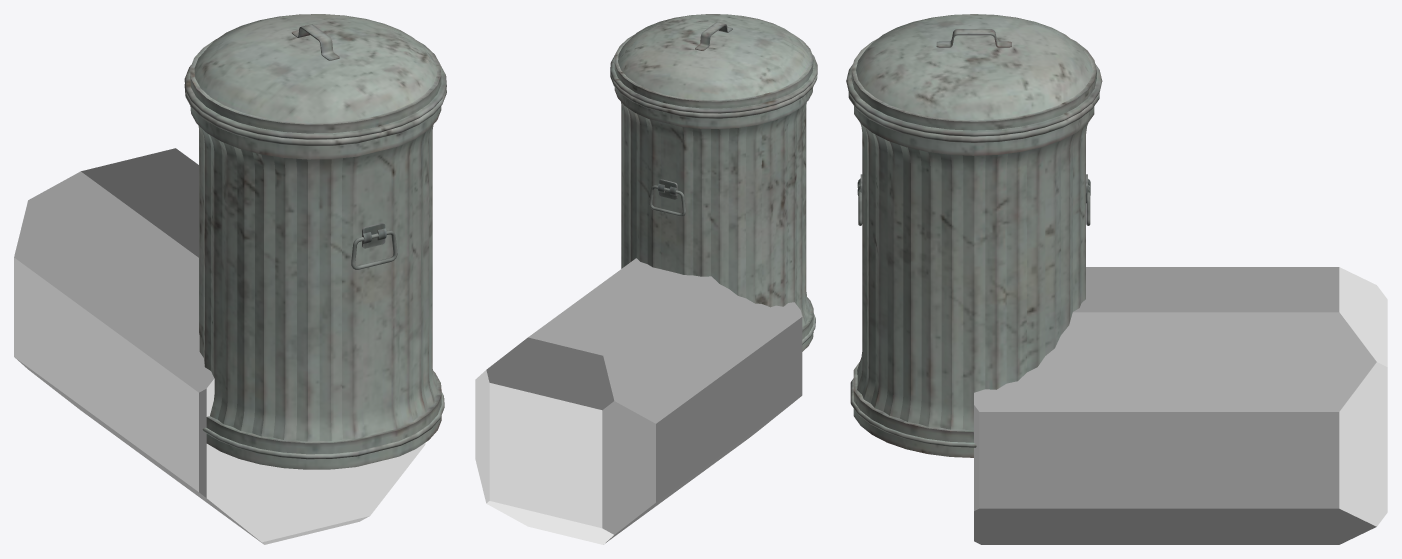
The model's file is SM_Dustbin_02.fbx.
3 renders of one model, left to right at view 1: azimuth 30°, elevation 25°; view 2: azimuth 150°, elevation 25°; view 3: azimuth 270°, elevation 25°, orthographic. The views are drawn at different scales.
Parts seen in each view (by area): view 1: SM_Dustbin_02_LOD0, SM_Dustbin_02_ConvexHulls; view 2: SM_Dustbin_02_ConvexHulls, SM_Dustbin_02_LOD0; view 3: SM_Dustbin_02_ConvexHulls, SM_Dustbin_02_LOD0.
Boxes of the visible parts, bbox=[...] form: SM_Dustbin_02_LOD0: bbox=[184, 14, 446, 469]; SM_Dustbin_02_ConvexHulls: bbox=[14, 148, 425, 544]; SM_Dustbin_02_ConvexHulls: bbox=[475, 258, 802, 544]; SM_Dustbin_02_LOD0: bbox=[610, 14, 817, 351]; SM_Dustbin_02_ConvexHulls: bbox=[974, 267, 1387, 544]; SM_Dustbin_02_LOD0: bbox=[846, 14, 1102, 457].
Bounding box in the file's own units: 59.84 × 126 × 126.
